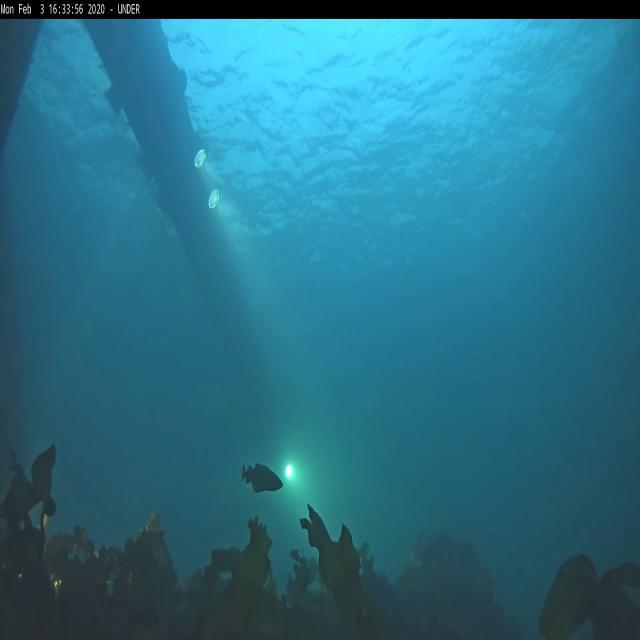fish: (240, 462, 284, 492)
